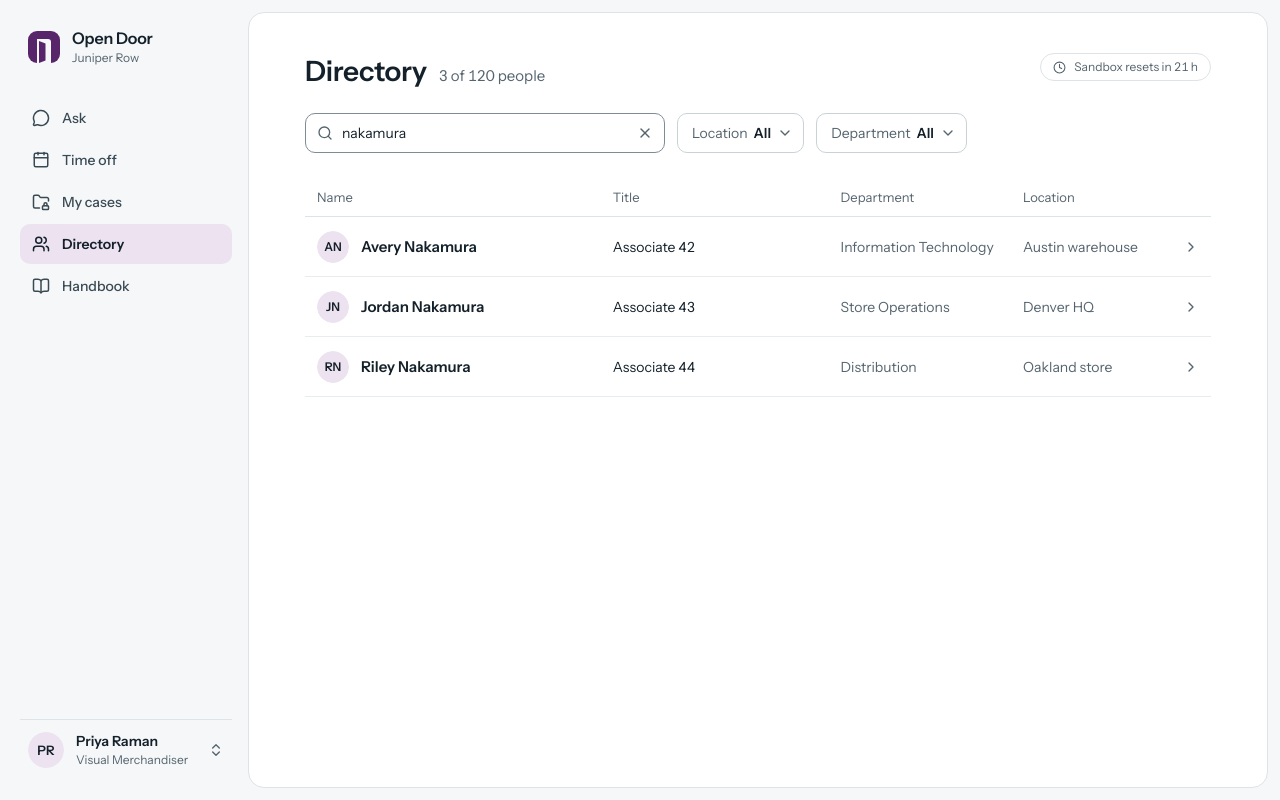
Scenario: "← Directory" › goes back through history, so the scroll comes back too, rather than pushing a new entry
The width and height of the screenshot is (1280, 800).
Click the link that starts with "Avery Nakamura" at (333, 246), box [305,217,1211,277]
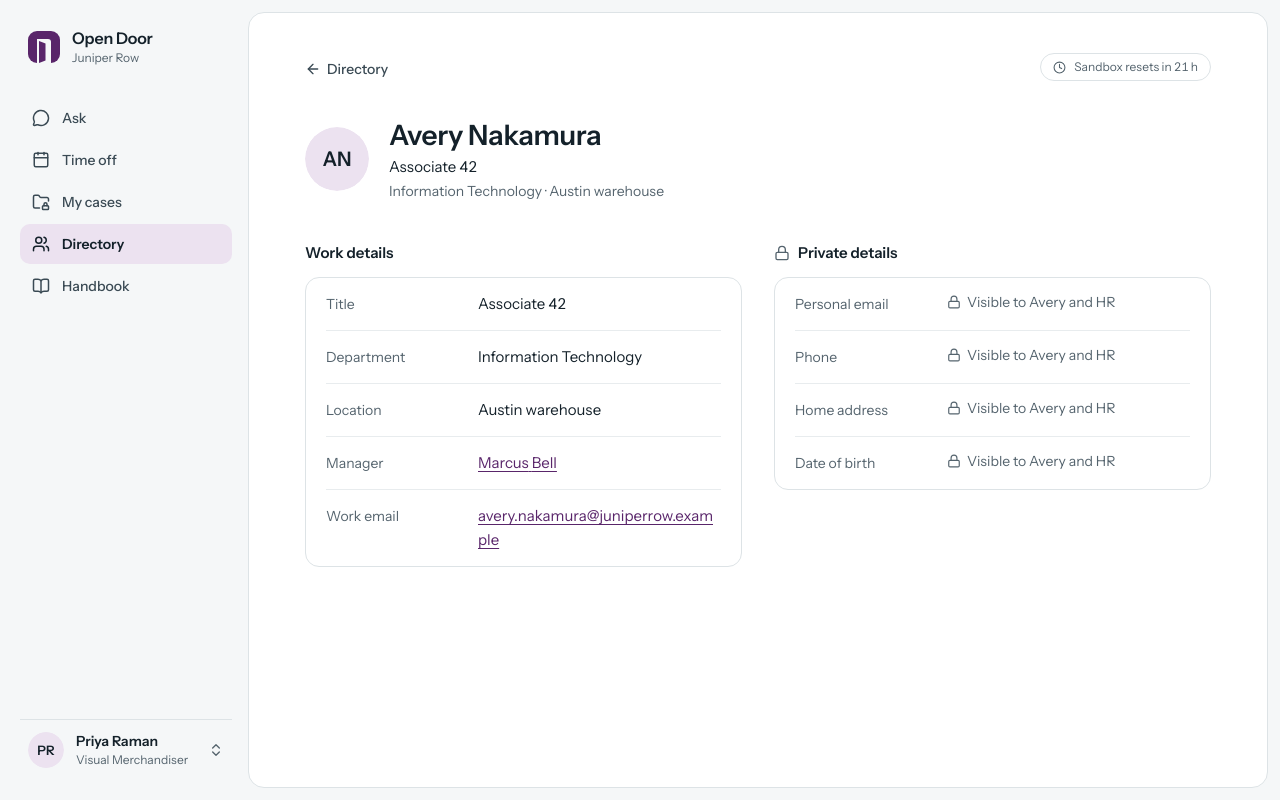
Click the link with aria-label "Back to Directory" at (347, 69), box [305,60,388,78]
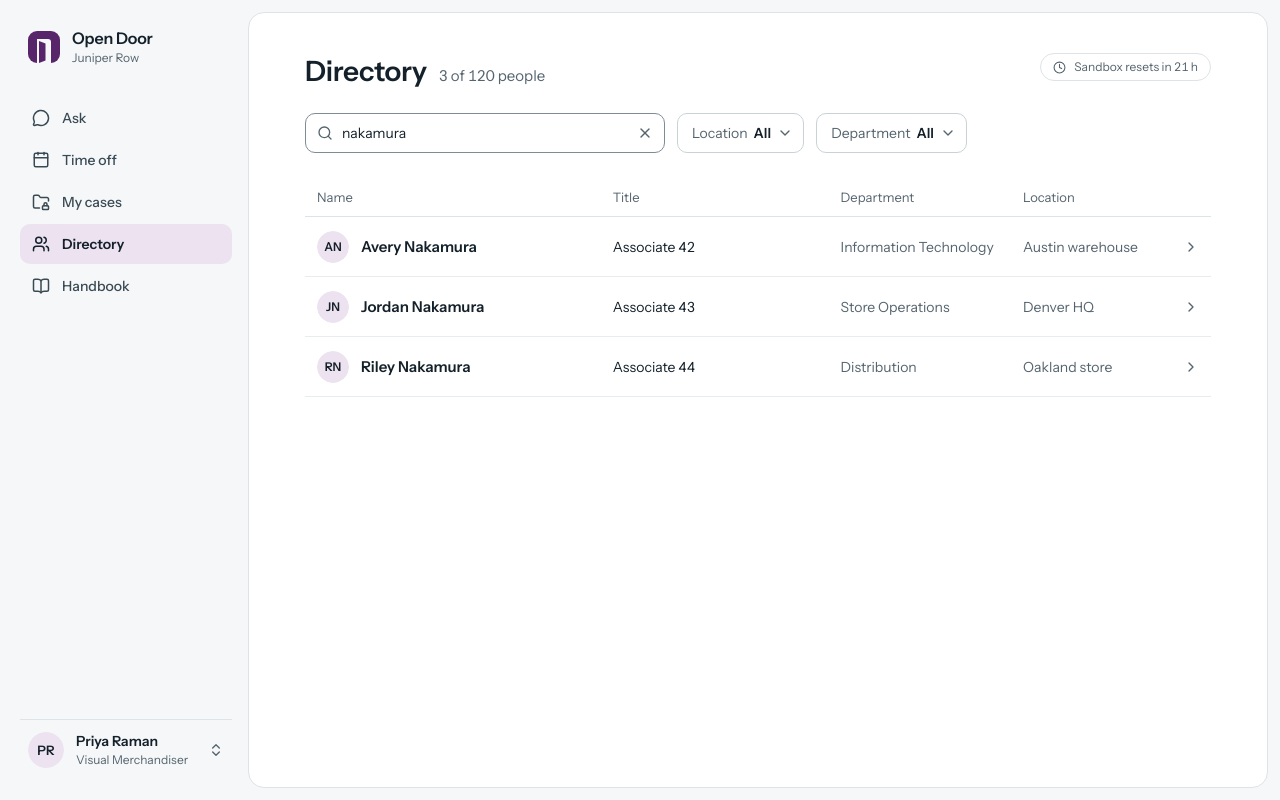
Check: the list named "People" is shown, box [305,217,1211,397]
